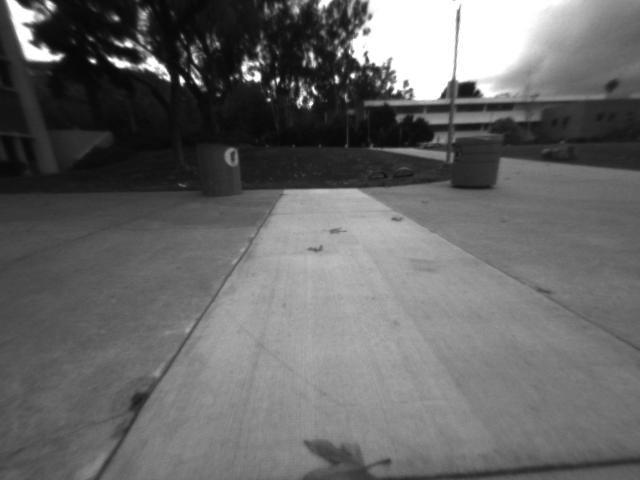trashcan: (192, 135, 239, 192), (452, 135, 497, 191)
